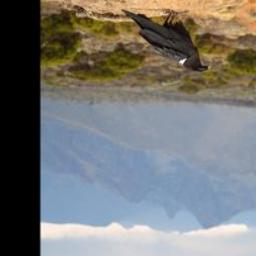Crow: (118, 6, 211, 75)
